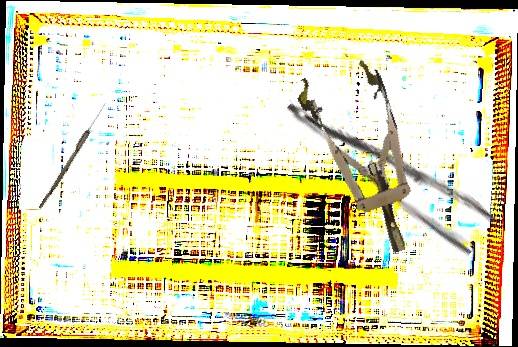Dressing Forceps: (283, 71, 499, 260)
Speculum: (291, 53, 440, 267)
Surgical Spoon: (38, 101, 108, 211)
